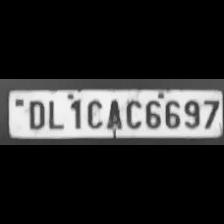1: (66, 96, 82, 130)
6: (143, 96, 161, 130), (162, 98, 180, 130)
7: (201, 96, 221, 130)
9: (180, 96, 200, 130)
A: (103, 96, 121, 130)
C: (84, 96, 104, 130), (124, 96, 142, 128)
D: (23, 98, 44, 130)
L: (44, 96, 64, 130)
